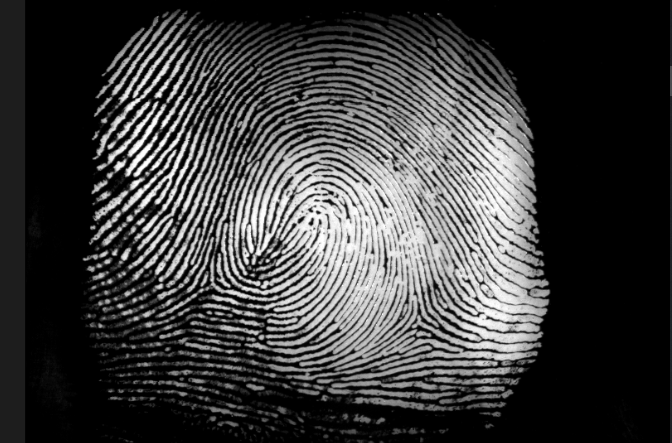deltas: (390, 283, 448, 352), (177, 250, 237, 309)
nucleo: (240, 194, 311, 278)
